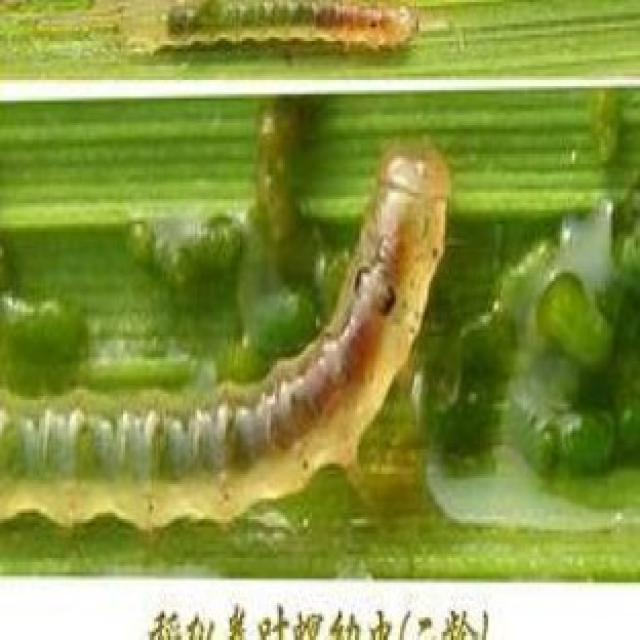rice leaf roller: (0, 86, 638, 527), (131, 0, 418, 53), (591, 90, 619, 162)
